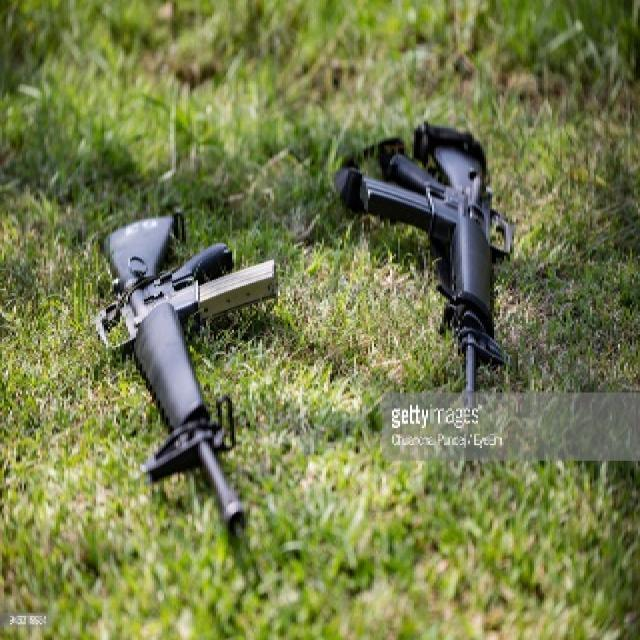weapon: (66, 200, 288, 594), (336, 96, 520, 446)
